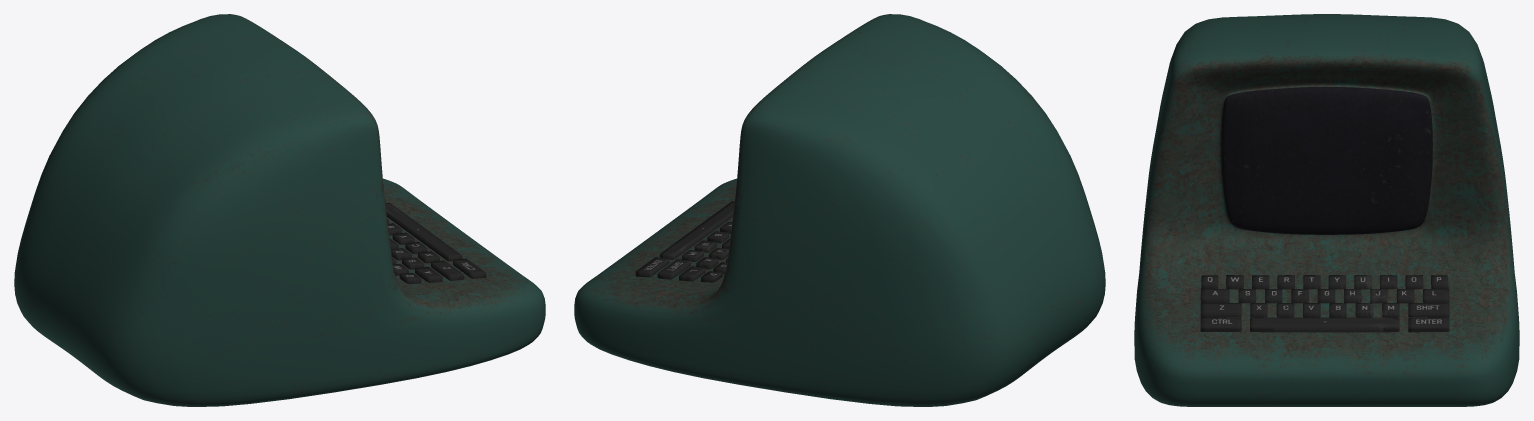
File: Terminal.fbx
The picture shows the model from 3 angles, left to right: view 1: azimuth 30°, elevation 25°; view 2: azimuth 150°, elevation 25°; view 3: azimuth 270°, elevation 25°; orthographic projection. The views are drawn at different scales.
Visible parts, largest first — view 1: Terminal, Keyboard; view 2: Terminal, Keyboard; view 3: Terminal, Terminal.001, Keyboard.
Part boxes in pixels (x1,y1,x2,y2): Terminal: [14, 14, 545, 406]; Keyboard: [385, 199, 486, 283]; Terminal: [574, 14, 1105, 406]; Keyboard: [635, 201, 734, 282]; Terminal: [1134, 14, 1519, 406]; Terminal.001: [1221, 87, 1432, 234]; Keyboard: [1200, 275, 1449, 332].
Size of the model in its own units: 471 by 294 by 367.
